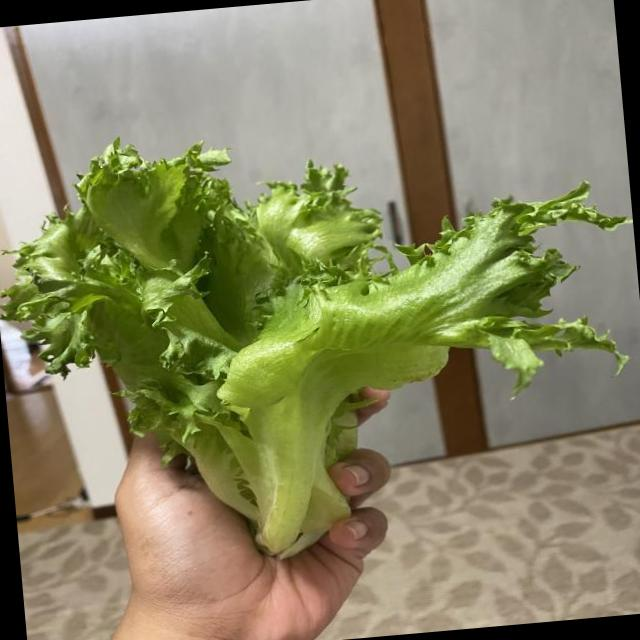Lettuce-Ready-to-Harvest: (1, 141, 629, 555)
